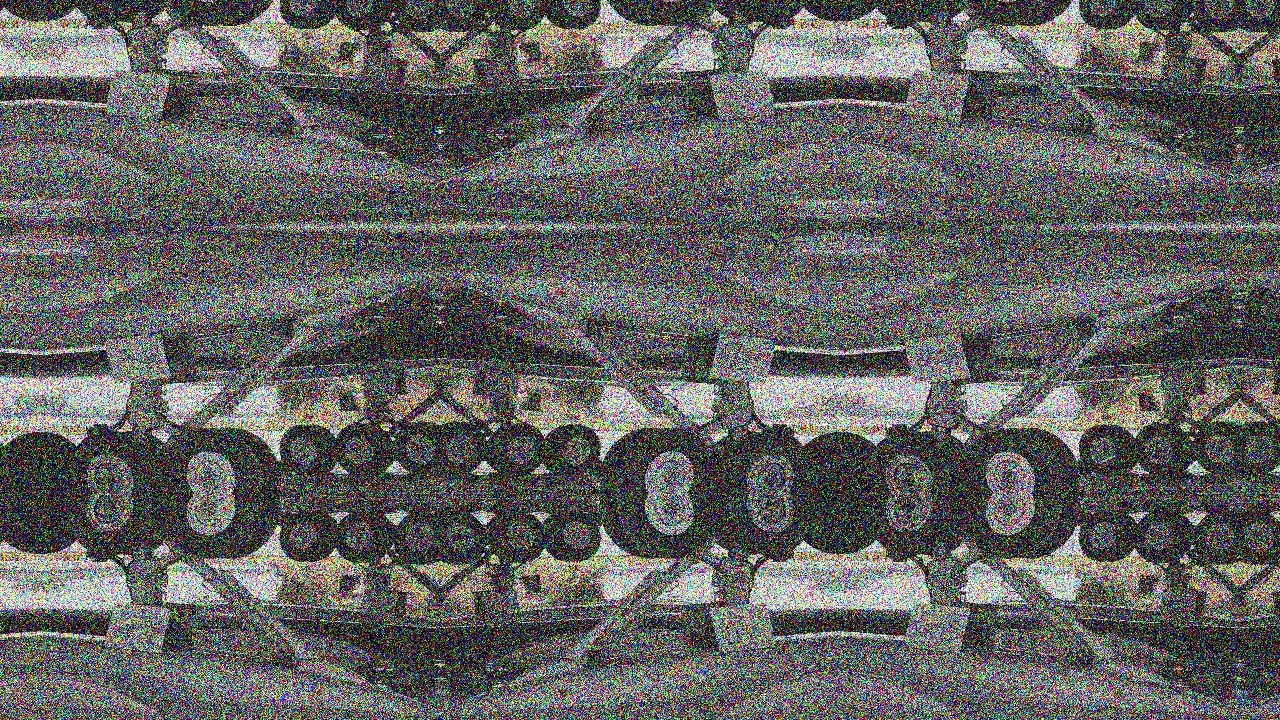chock: (85, 424, 110, 450), (770, 424, 795, 450), (885, 424, 910, 450), (85, 4, 110, 29), (770, 4, 795, 29), (885, 4, 910, 29), (85, 537, 110, 562), (770, 537, 795, 562), (885, 537, 910, 562), (102, 434, 124, 457), (756, 434, 778, 457), (902, 434, 924, 457), (102, 530, 124, 553), (756, 530, 778, 553), (902, 530, 924, 553), (339, 575, 364, 594), (516, 575, 541, 594), (1139, 575, 1164, 594), (339, 42, 364, 60), (516, 42, 541, 60), (1139, 42, 1164, 60), (339, 393, 364, 411), (516, 393, 541, 411), (1139, 393, 1164, 411), (102, 0, 124, 19), (756, 0, 778, 19), (902, 0, 924, 19), (275, 458, 292, 476), (588, 458, 605, 476), (1075, 458, 1092, 476), (275, 511, 292, 528), (588, 511, 605, 528), (1075, 511, 1092, 528)
wheel: (161, 493, 270, 560), (610, 493, 719, 560), (961, 493, 1070, 560), (161, 427, 270, 493), (610, 427, 719, 493), (961, 427, 1070, 493), (62, 493, 166, 557), (714, 493, 818, 557), (862, 493, 966, 557), (62, 430, 166, 493), (714, 430, 818, 493), (862, 430, 966, 493), (276, 422, 334, 475), (546, 422, 604, 475), (1076, 422, 1134, 475), (276, 512, 334, 564), (546, 512, 604, 564), (1076, 512, 1134, 564), (333, 425, 391, 476), (489, 425, 547, 476), (1133, 425, 1191, 476), (333, 511, 391, 562), (489, 511, 547, 562), (1133, 511, 1191, 562), (161, 0, 270, 27), (610, 0, 719, 27), (961, 0, 1070, 27), (390, 422, 440, 475), (440, 422, 490, 475), (1190, 422, 1240, 475), (390, 512, 440, 565), (440, 512, 490, 565), (1190, 512, 1240, 565), (62, 0, 166, 23), (714, 0, 818, 23), (862, 0, 966, 23), (1240, 422, 1280, 475), (1240, 512, 1280, 565), (276, 0, 334, 31), (546, 0, 604, 31), (1076, 0, 1134, 31), (333, 0, 391, 29), (489, 0, 547, 29), (1133, 0, 1191, 29), (390, 0, 440, 31), (440, 0, 490, 31), (1190, 0, 1240, 31), (1240, 0, 1280, 31), (0, 493, 18, 557), (0, 430, 18, 493), (0, 0, 18, 23)
